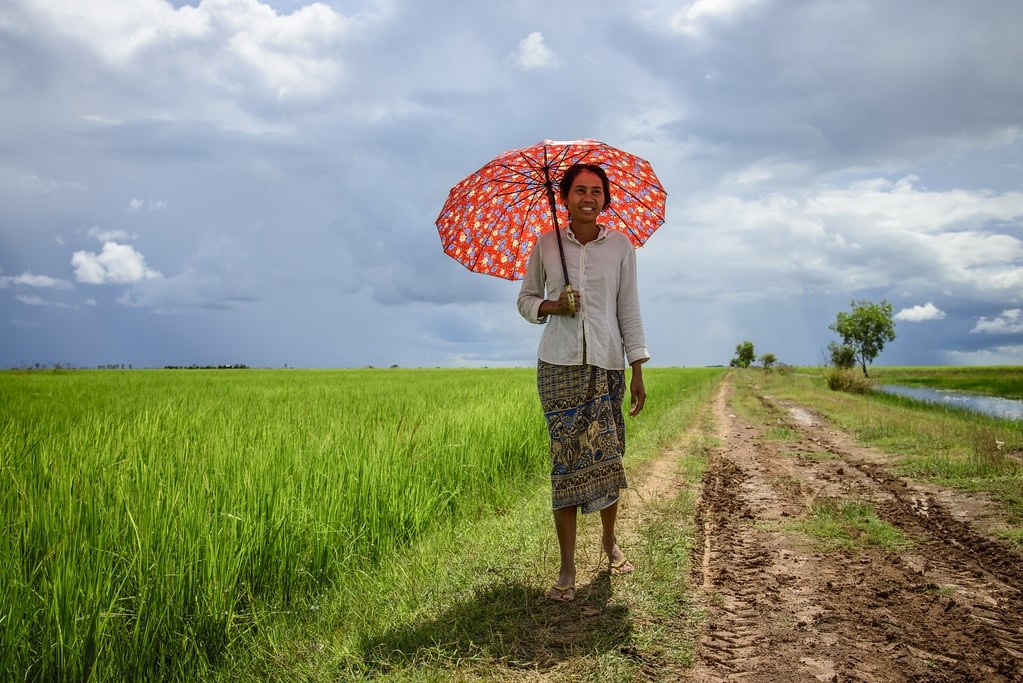face_no_mask: (563, 165, 608, 228)
